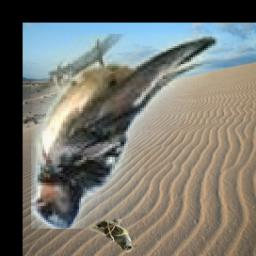Cuckoo: (88, 220, 136, 253)
Swallow: (31, 35, 256, 230)
